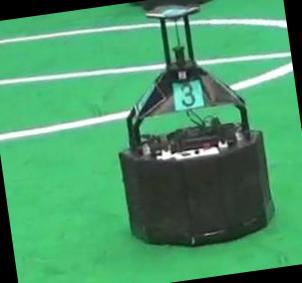robot: (120, 0, 275, 245)
